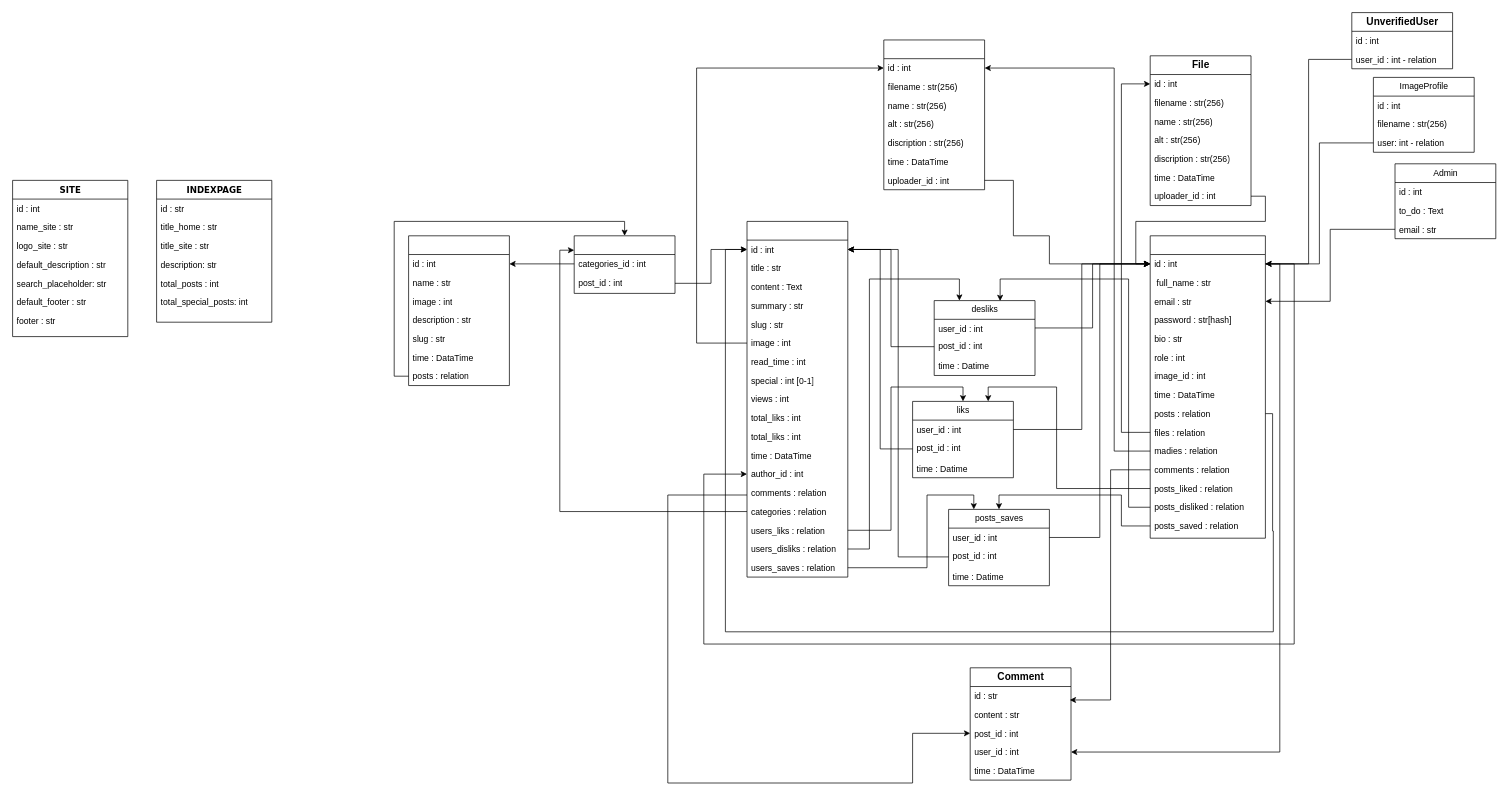
This 1508x801 diagram has some shape labels left out. Here are the shapes that lost their labels. From the top down, the box of each, then its label:
(883, 39, 985, 190): Madie
(573, 235, 675, 293): posts_categories
(408, 235, 509, 386): Category
(746, 221, 848, 577): Post
(1149, 235, 1265, 538): User
